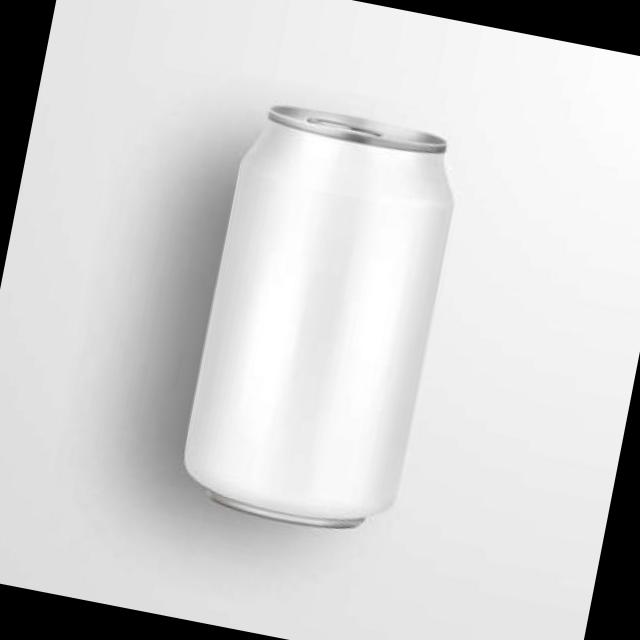Kaleng: (172, 94, 470, 542)
